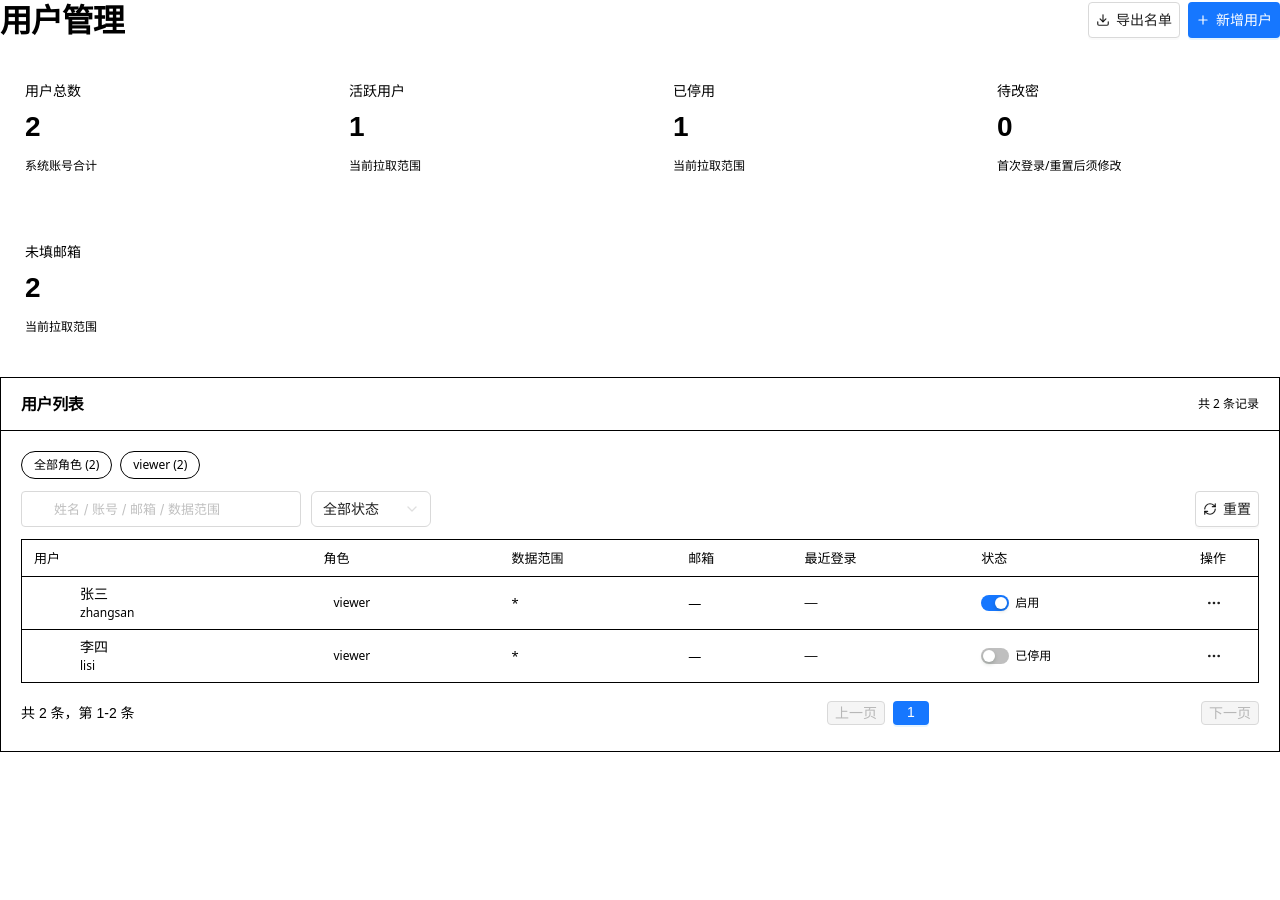
Scenario: 用户管理：停用/彻底删除走确认对话框（替代原生 confirm） › 停用失败：接口报错时展示错误 flash 提示
Click the button named "操作 张三".
click(1214, 603)  # box [1200,589,1228,617]
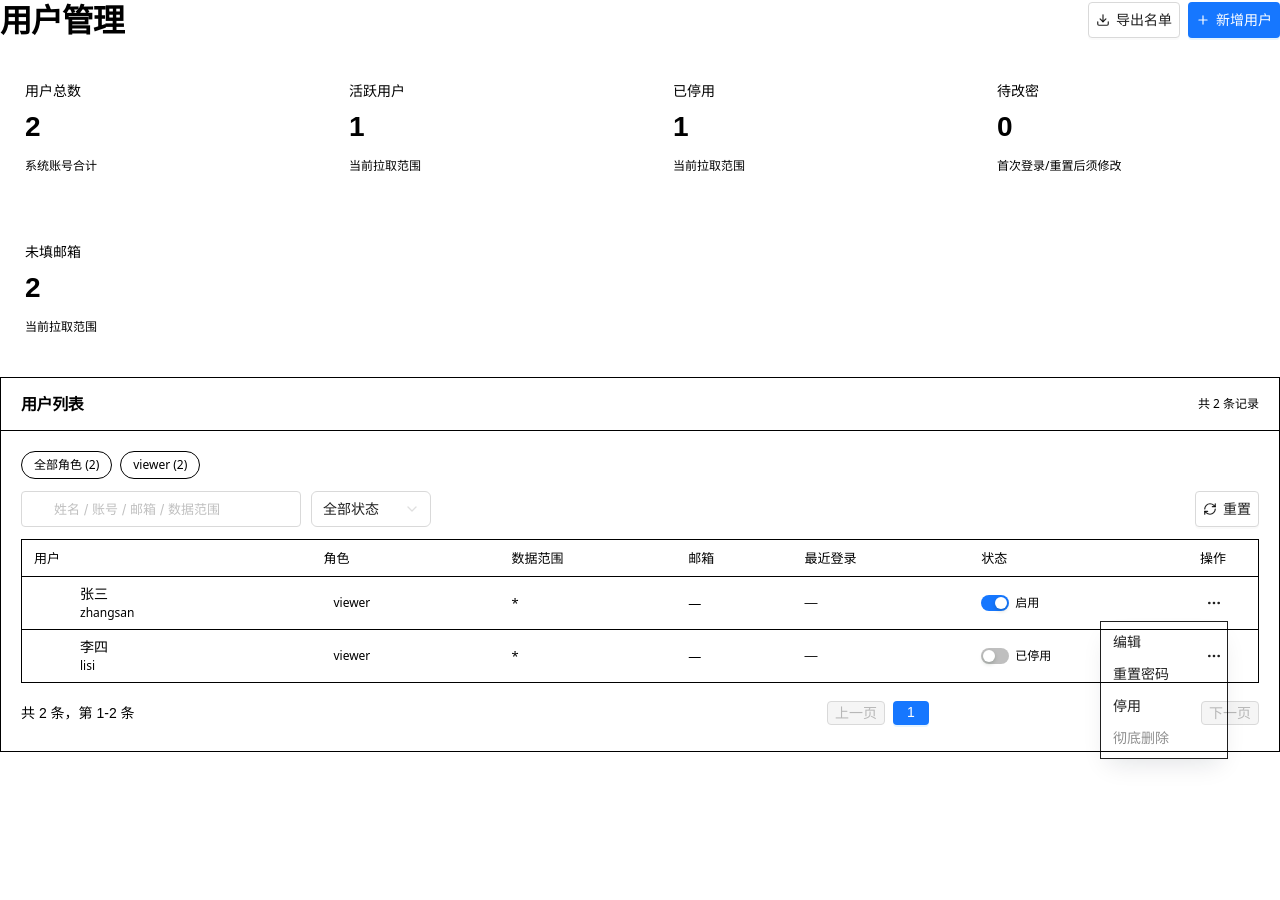
Click the menu item "停用".
click(1127, 706)  # box [1113,697,1141,714]
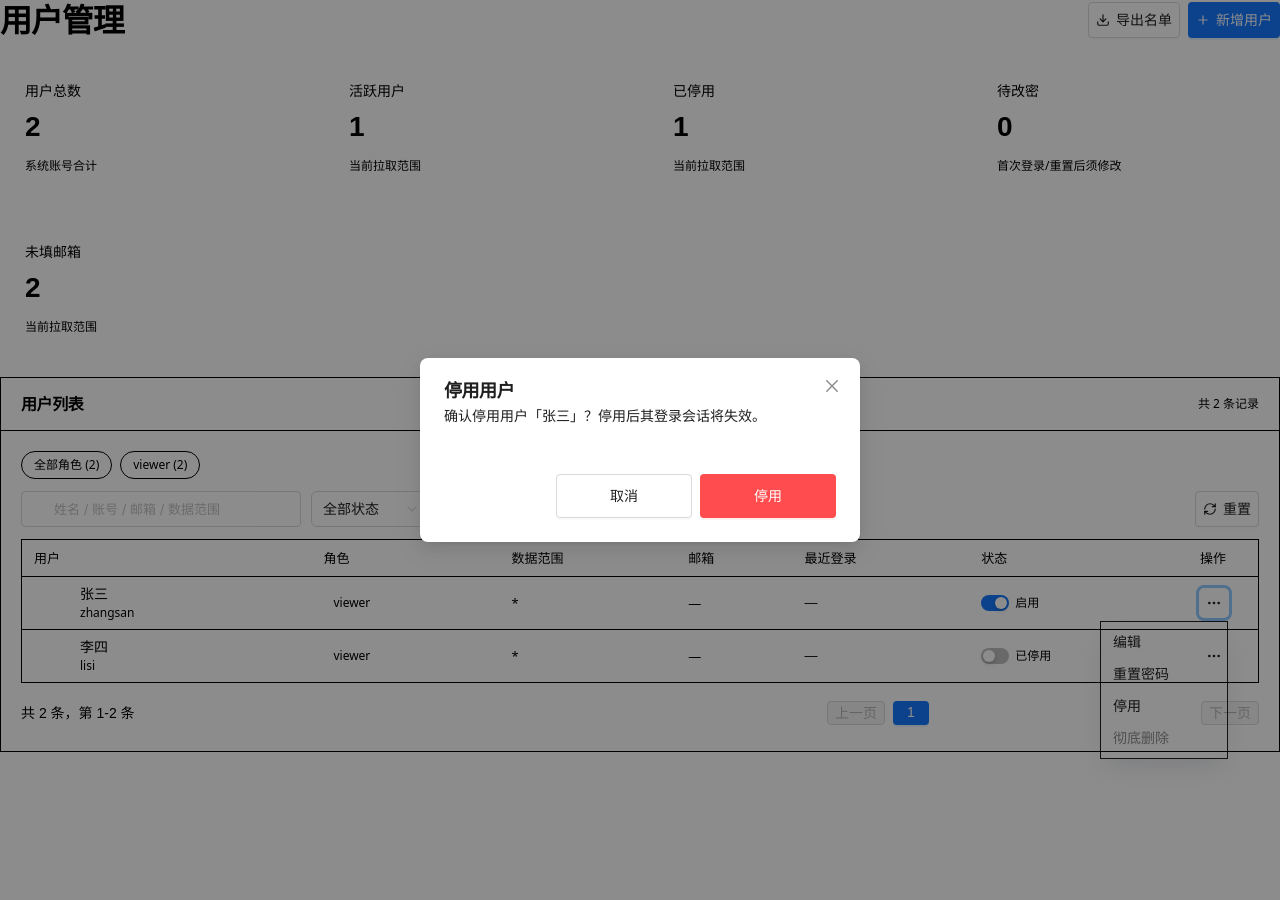
Click the button "停用".
click(768, 496)  # box [700,474,836,518]
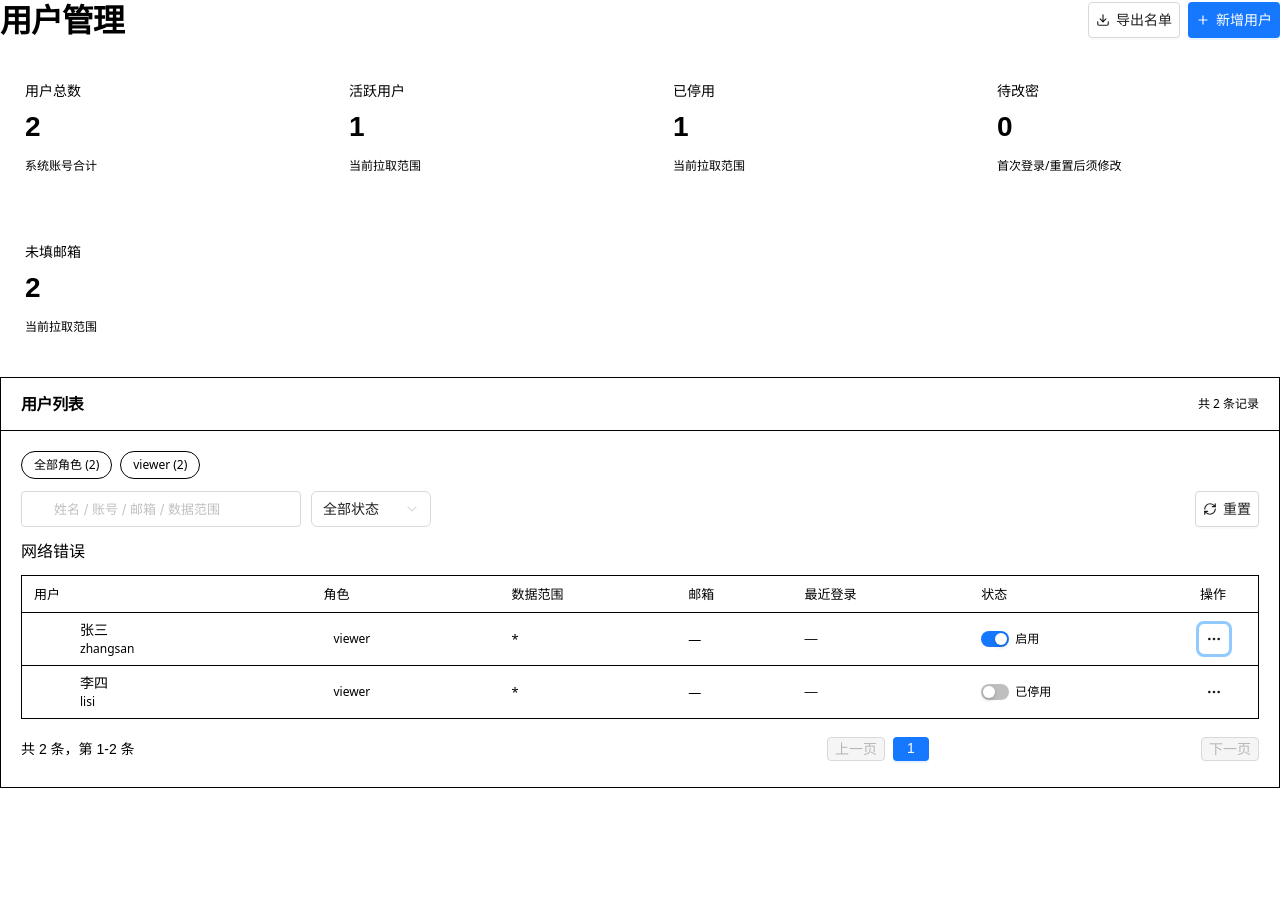
Expected: the text "网络错误" is shown, [21,540,85,562]
